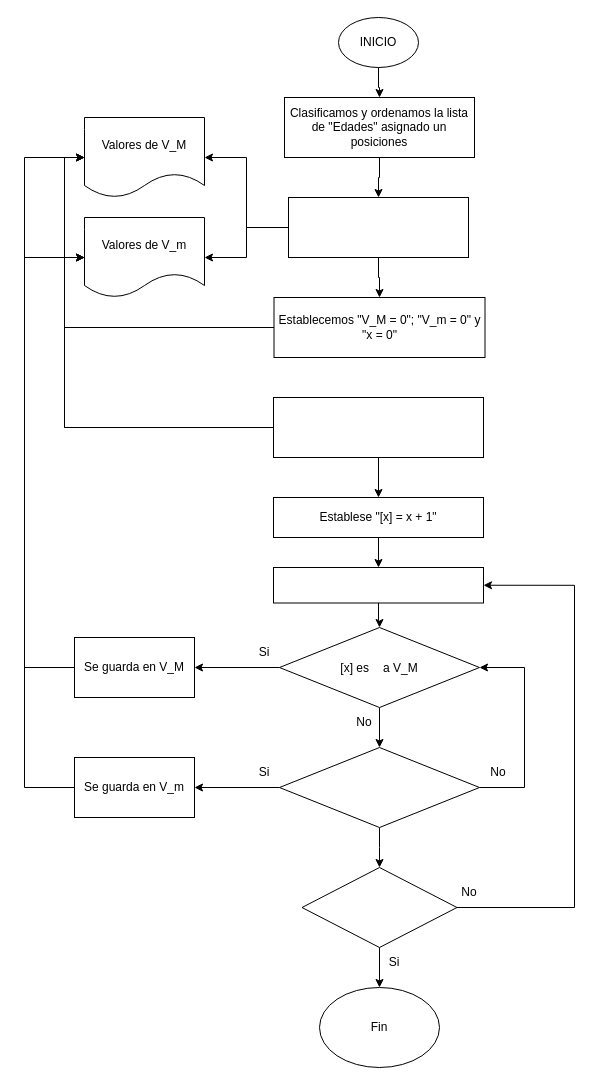
Image size: 600x1085. Some labels were removed from this diagram. Here are the shapes that lost their labels. From the top down, the centre of each, then its label:
[378,227]: Establecemos varibles "V_M y V_m"
[378,427]: Guardamos [0] en "V_M y V_m"
[378,584]: Ejecuta [x]
[379,787]: [x] es ≤ a V_m
[379,907]: [x] es mayor a [14]
